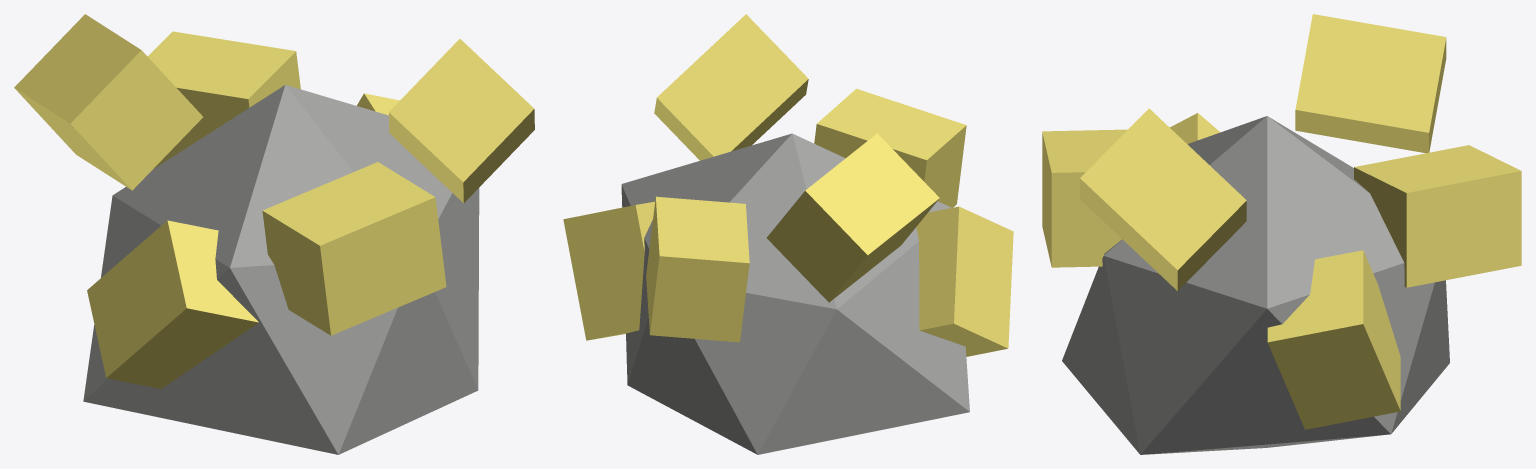
Rendered from sulfur.glb.
3 renders of one model, left to right at view 1: azimuth 30°, elevation 25°; view 2: azimuth 150°, elevation 25°; view 3: azimuth 270°, elevation 25°, orthographic. The views are drawn at different scales.
Visible parts, largest first — view 1: sulfur; view 2: sulfur; view 3: sulfur.
Boxes of the visible parts, left/top/right/bottom form: sulfur: left=14, top=14, right=534, bottom=454; sulfur: left=563, top=14, right=1013, bottom=454; sulfur: left=1042, top=14, right=1521, bottom=454.
Bounding box in the file's own units: 0.5215 × 0.4794 × 0.5299.
